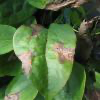Tomato leaf bacterial spot: (12, 22, 76, 99)
